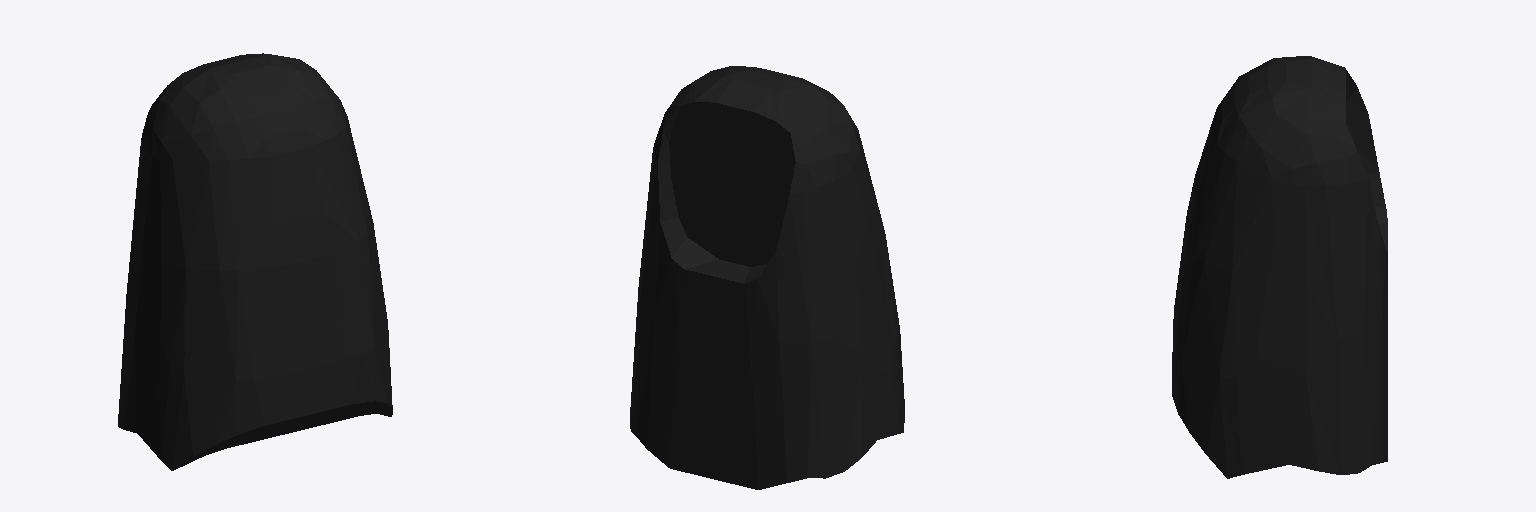
3 renders of one model, left to right at view 1: azimuth 30°, elevation 25°; view 2: azimuth 150°, elevation 25°; view 3: azimuth 270°, elevation 25°, orthographic.
Visible parts, largest first — view 1: distal_distal_001; view 2: distal_distal_001; view 3: distal_distal_001.
Boxes of the visible parts, <box> form: distal_distal_001: <box>118,53,392,470</box>; distal_distal_001: <box>630,66,904,489</box>; distal_distal_001: <box>1172,56,1387,478</box>.
Size of the model in its own units: 0.1767 by 0.2726 by 0.145.